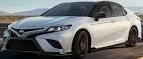Cars: (3, 1, 142, 57)
